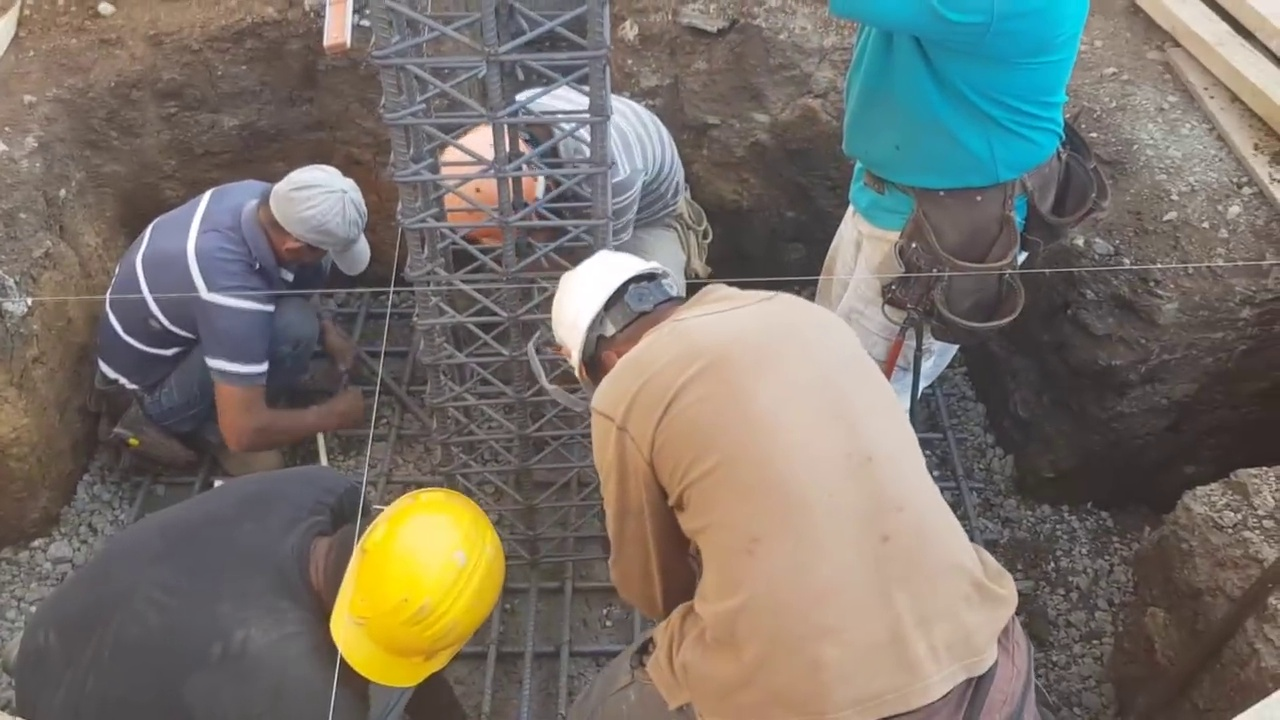helmet: (322, 487, 495, 683), (555, 248, 678, 383), (436, 123, 544, 236)
helmet-off: (255, 164, 369, 277)
helmet-on: (289, 480, 501, 688), (558, 243, 706, 376), (433, 114, 573, 245)
person: (552, 250, 1034, 717), (0, 472, 510, 720), (805, 0, 1093, 416), (97, 153, 399, 475), (421, 81, 704, 310)
